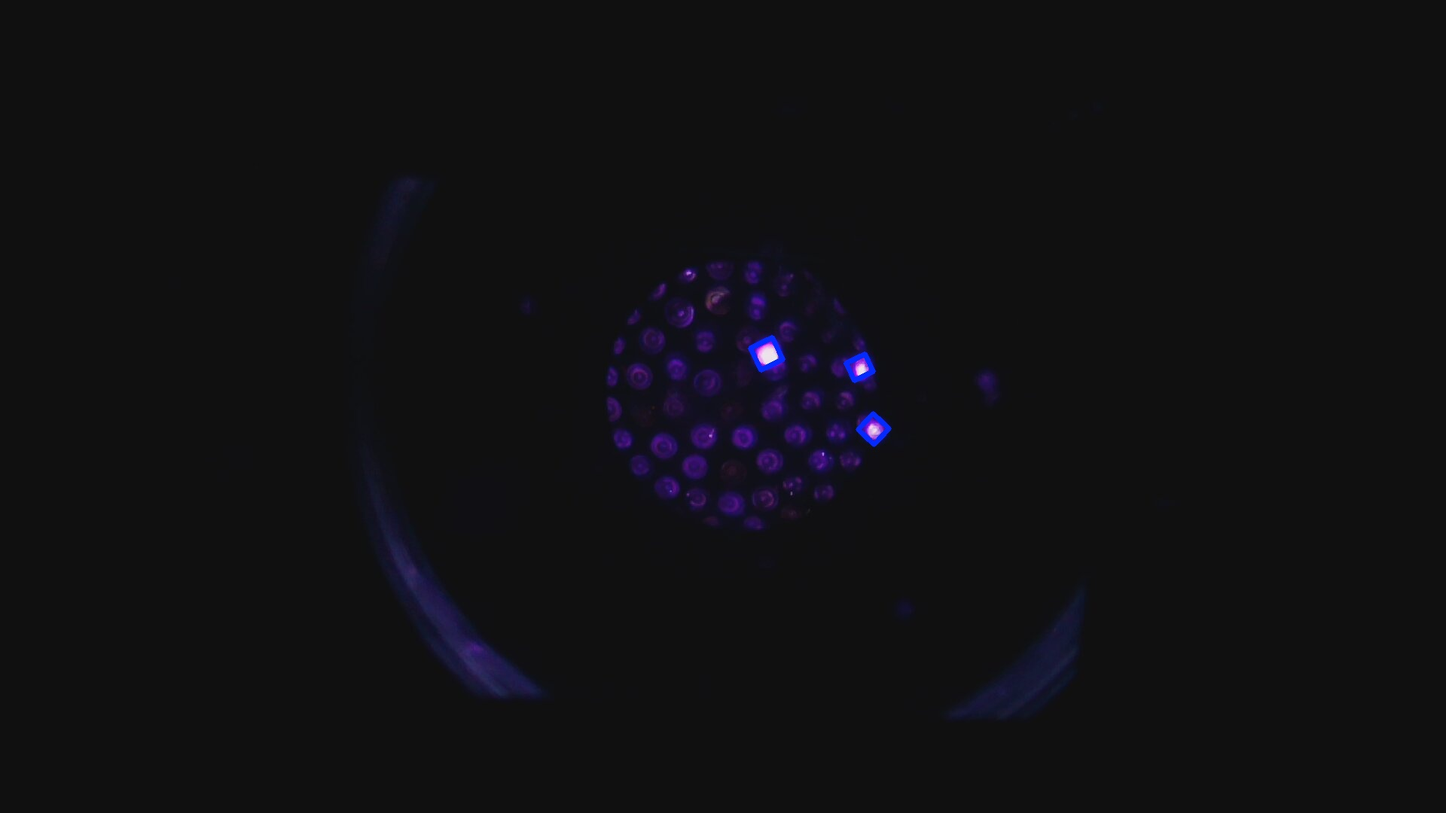plastic: (745, 332, 789, 376), (852, 407, 896, 451), (841, 349, 878, 386)
